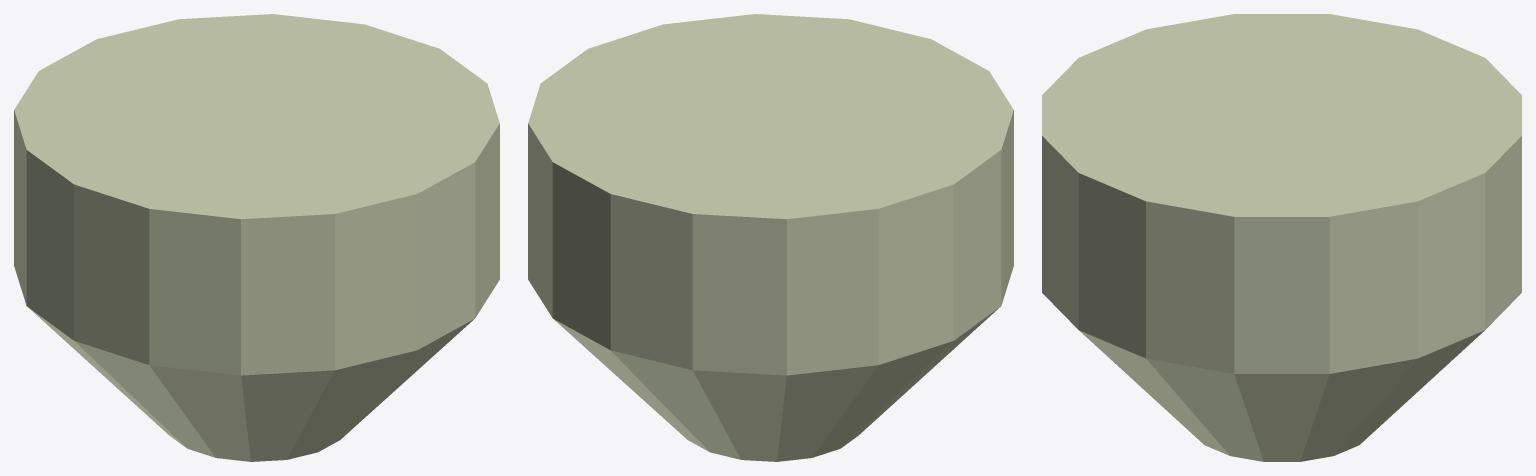
The model's file is ALV_3_Engine_1_Collider.obj.
3 renders of one model, left to right at view 1: azimuth 30°, elevation 25°; view 2: azimuth 150°, elevation 25°; view 3: azimuth 270°, elevation 25°, orthographic.
Visible parts, largest first — view 1: ALV_3_Engine_1_Collider; view 2: ALV_3_Engine_1_Collider; view 3: ALV_3_Engine_1_Collider.
Boxes of the visible parts, <box> form: ALV_3_Engine_1_Collider: <box>14,14,499,461</box>; ALV_3_Engine_1_Collider: <box>528,14,1013,461</box>; ALV_3_Engine_1_Collider: <box>1042,14,1521,461</box>.
Size of the model in its own units: 2.5 by 1.77 by 2.5.
